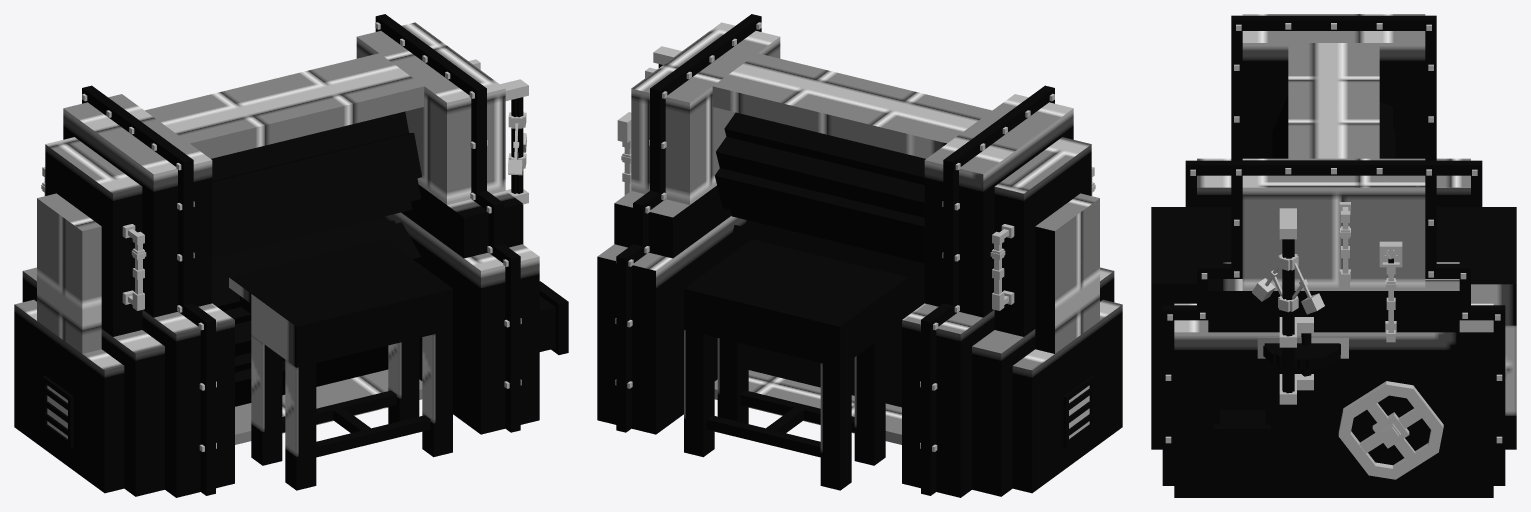
Rendered from rollingmill.obj.
The picture shows the model from 3 angles, left to right: view 1: azimuth 30°, elevation 25°; view 2: azimuth 150°, elevation 25°; view 3: azimuth 270°, elevation 25°; orthographic projection.
Size of the model in its own units: 2.95 by 1.94 by 2.
